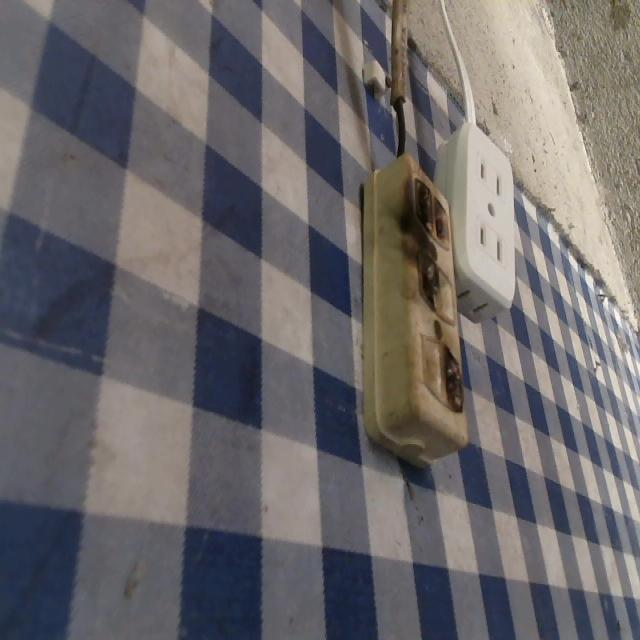-: (401, 161, 457, 247), (404, 246, 443, 322), (436, 338, 471, 418)
